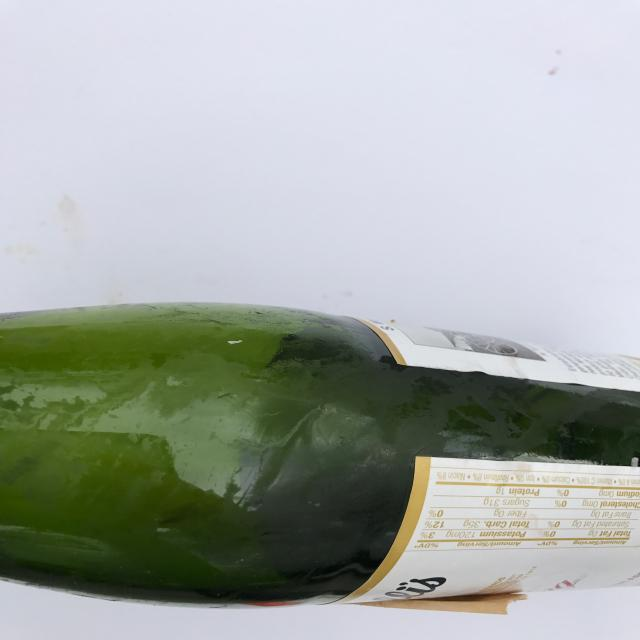glass: (2, 301, 640, 611)
